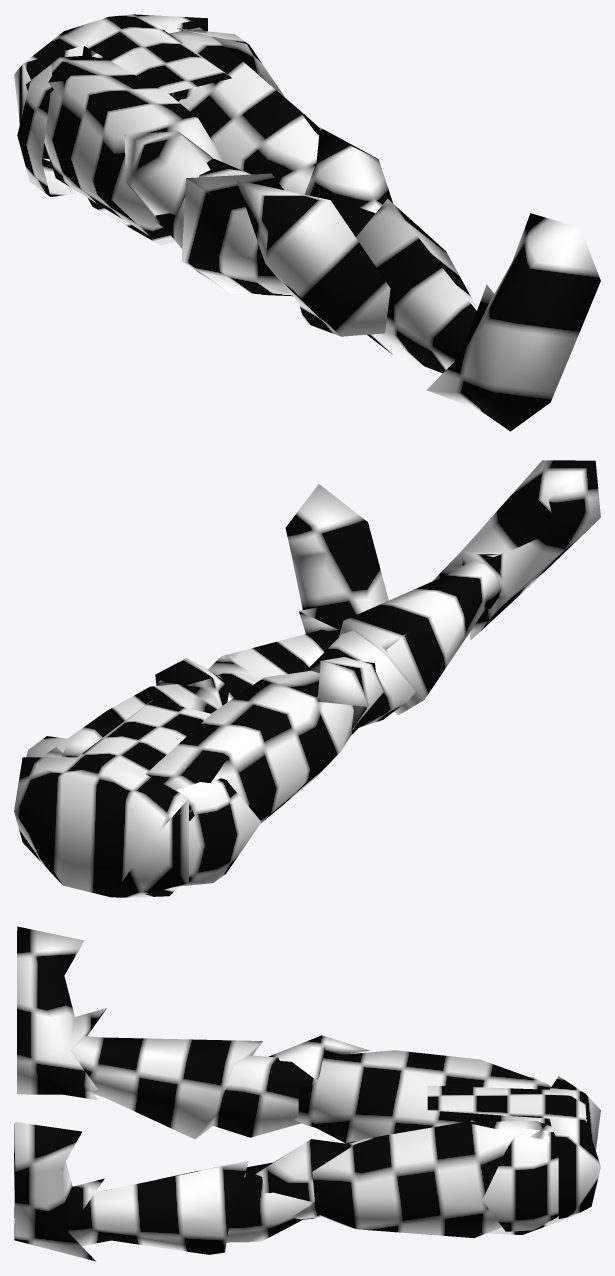
The model's file is initarlg1.dae.
3 renders of one model, top to bottom at view 1: azimuth 30°, elevation 25°; view 2: azimuth 150°, elevation 25°; view 3: azimuth 270°, elevation 25°, orthographic. The views are drawn at different scales.
Parts seen in each view (by area): view 1: armor; view 2: armor; view 3: armor.
Part boxes in pixels (x1,y1,x2,y2): armor: [14, 14, 600, 431]; armor: [14, 460, 600, 897]; armor: [14, 926, 600, 1261].
Bounding box in the file's own units: 0.8464 × 1.66 × 0.735.
1 material, 1 textured.
